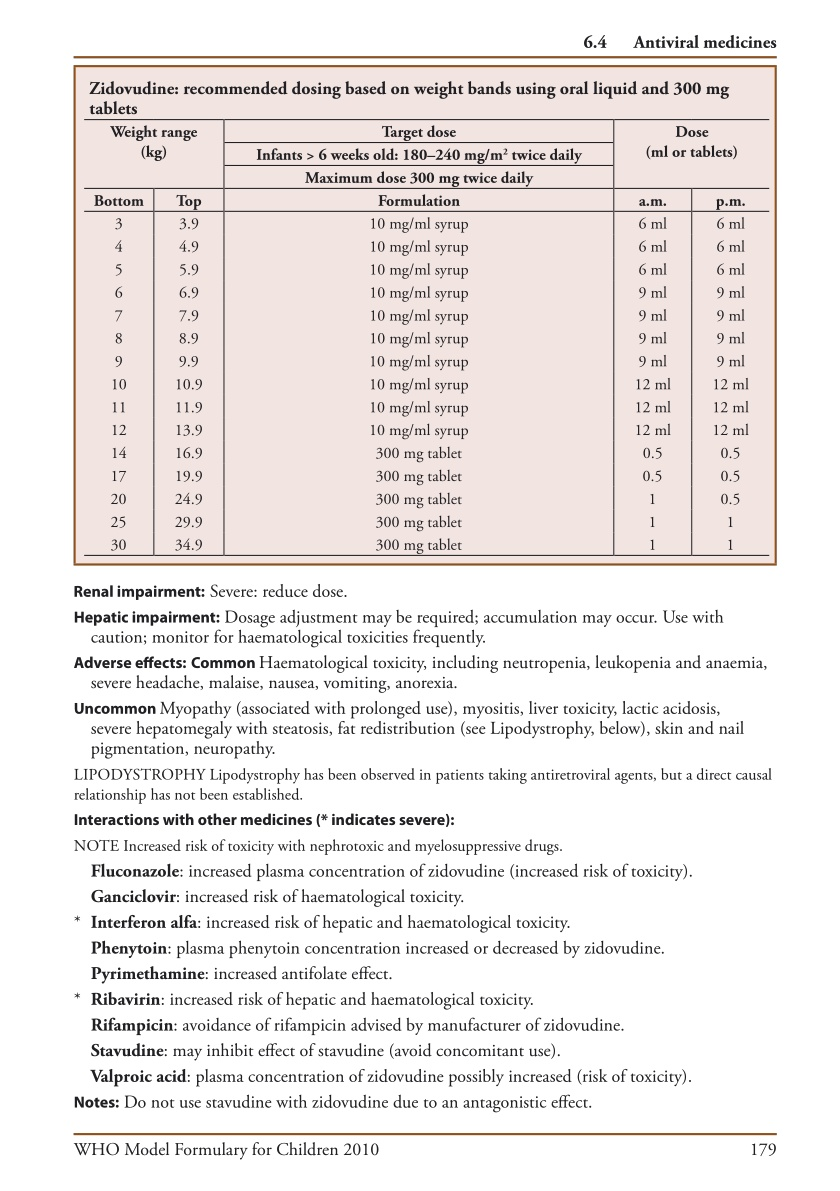partial_lined_merged_cells: (72, 64, 777, 566)
